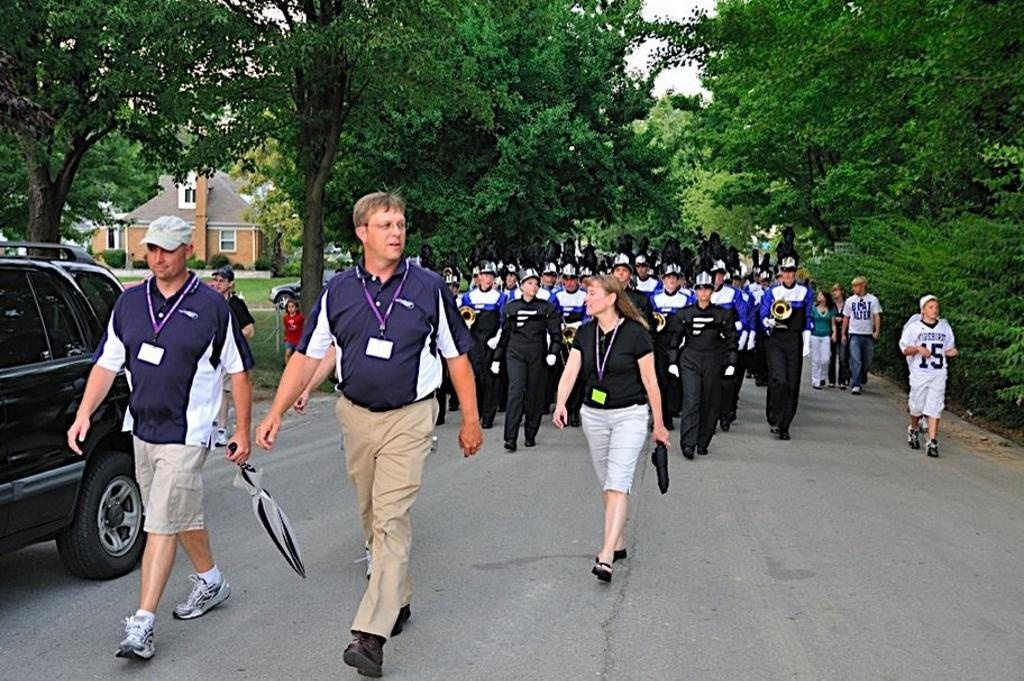human_face: (366, 208, 404, 258), (146, 238, 184, 278), (584, 284, 606, 314), (212, 275, 228, 293), (522, 277, 538, 295), (612, 264, 628, 282), (925, 300, 939, 318), (562, 275, 576, 291), (697, 284, 711, 300), (664, 273, 676, 287), (543, 272, 555, 284), (480, 272, 494, 282), (504, 272, 514, 286), (636, 263, 646, 277), (783, 268, 793, 282), (712, 271, 722, 283), (472, 275, 480, 285), (852, 284, 862, 292), (287, 304, 295, 312), (817, 292, 825, 300), (832, 288, 840, 296), (760, 278, 768, 286), (732, 278, 738, 288), (754, 272, 760, 280)
